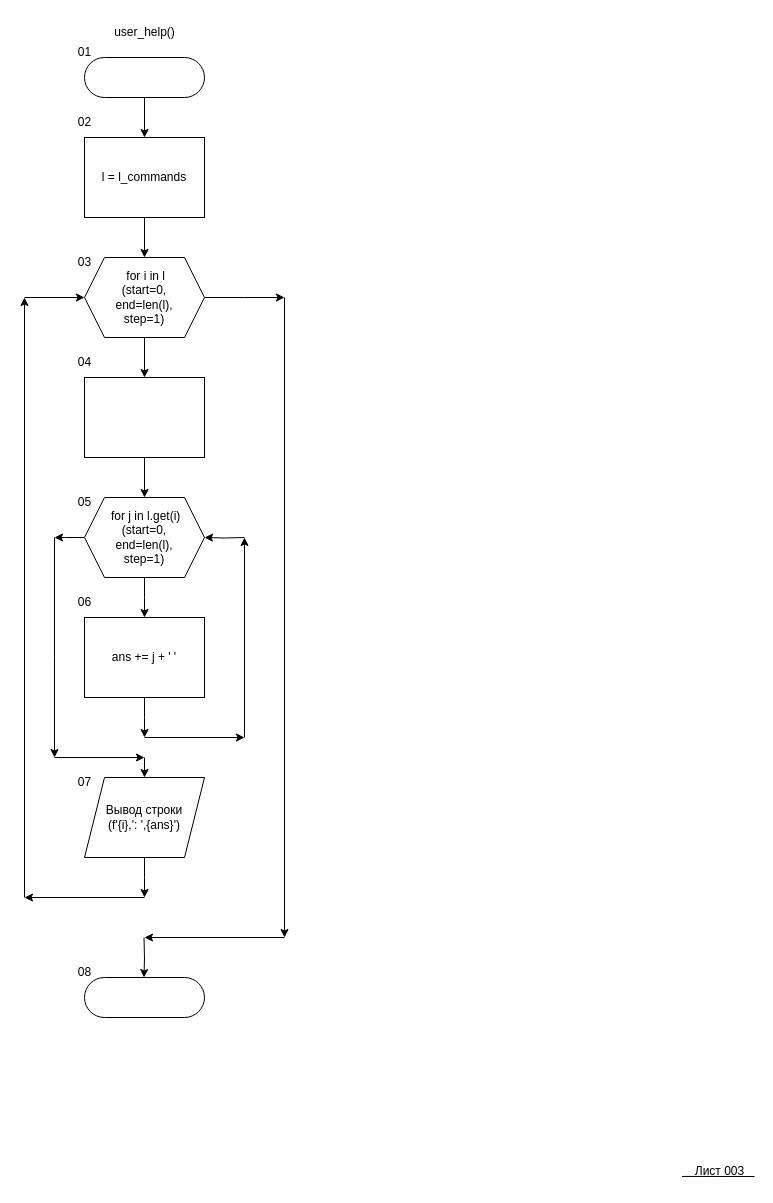
Image size: 773x1203. Some labels were removed from this diagram. Here are the shapes that lost their labels. From the top down, the centre of each, then its label:
At (144,77): "начало".
At (144,417): "ans = ''".
At (144,997): "конец".
